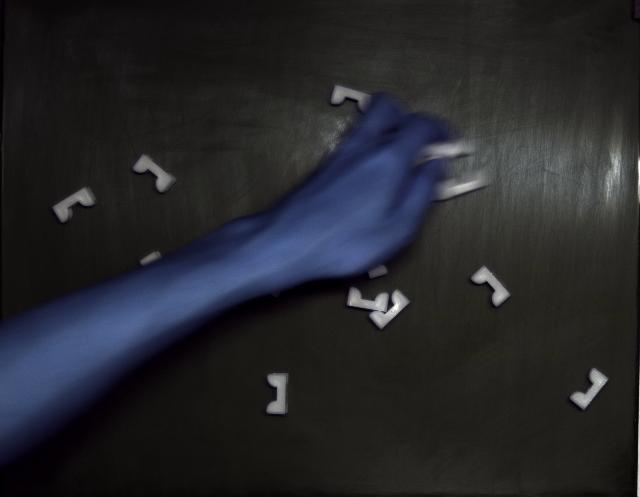third_side: (132, 154, 176, 192), (369, 290, 410, 330), (471, 266, 510, 308), (570, 369, 609, 410), (52, 188, 98, 222), (348, 288, 389, 312), (266, 374, 289, 415)
